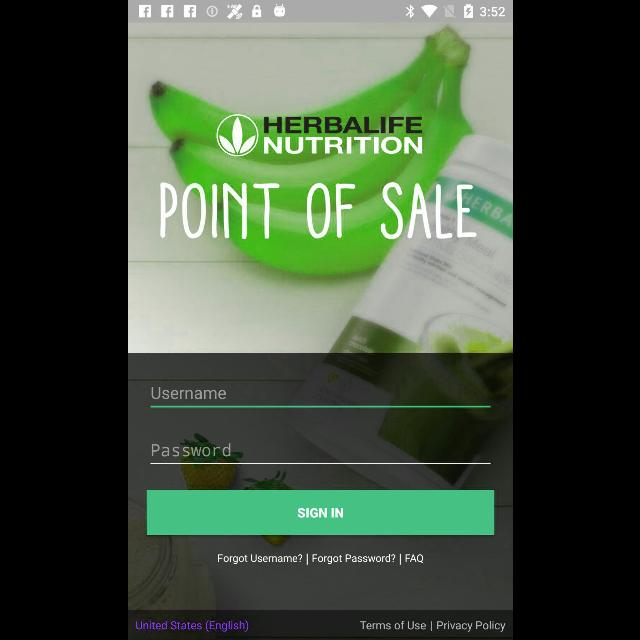image: (216, 114, 422, 158)
input: (150, 387, 490, 408), (150, 444, 490, 464)
text: (160, 182, 476, 240), (359, 620, 505, 632), (134, 620, 248, 632), (152, 443, 230, 457), (150, 386, 226, 399), (218, 554, 302, 564), (311, 554, 395, 564), (404, 554, 422, 564)
textbutton: (146, 489, 494, 535)
uppertaskbar: (128, 1, 512, 23)
